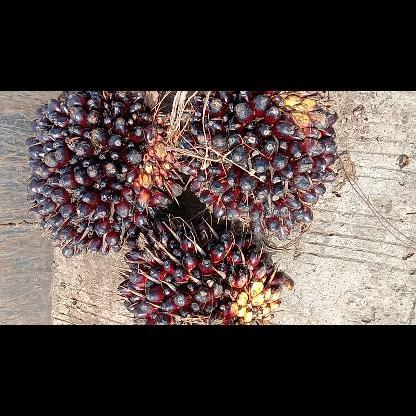TBS mentah: (22, 90, 188, 260), (178, 91, 340, 241), (115, 216, 295, 324)
